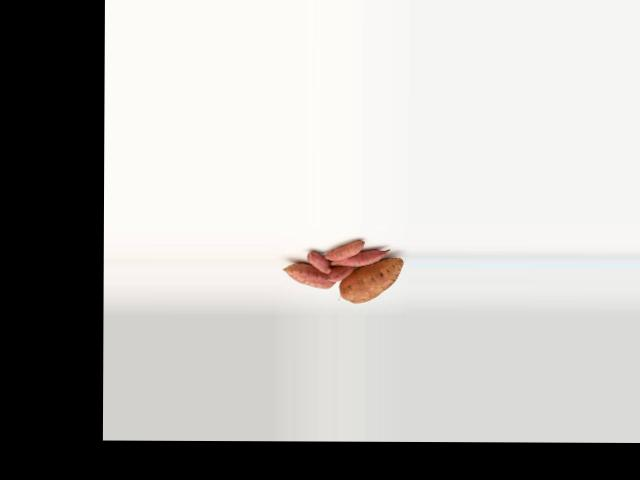sweet_potato: (281, 262, 334, 288)
